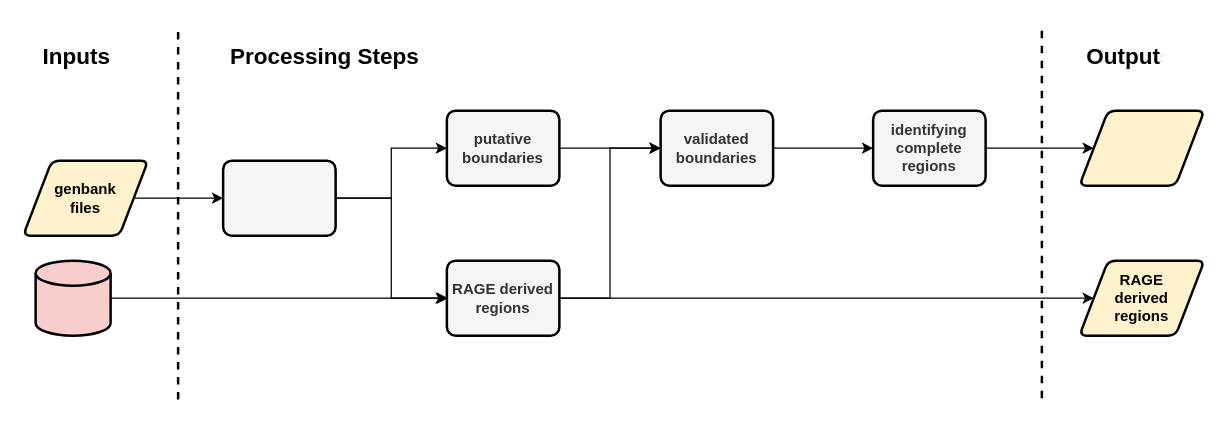
Some shapes in this 1226 by 423 pixel diagram are drawn without their labels. Here are the shapes that lost their labels. From the top down, the centre of each, then its label:
[1141,147]: Complete RAGEs
[278,197]: txt files
[72,297]: RAGE proteins
